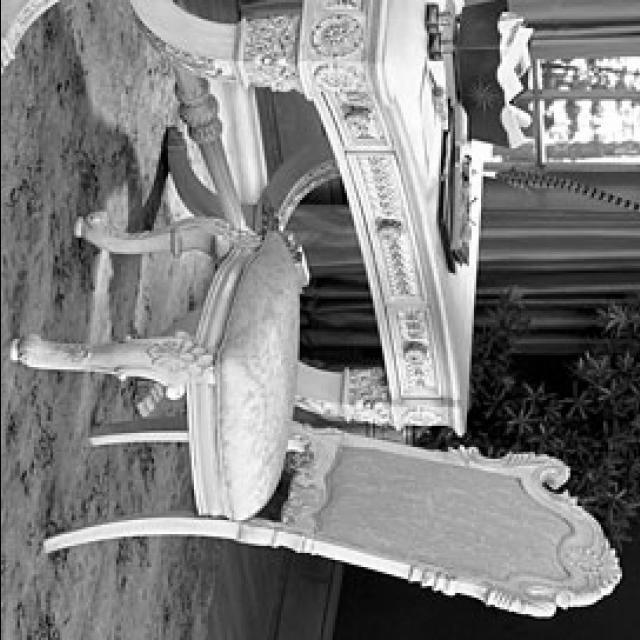chair: (8, 208, 626, 618)
